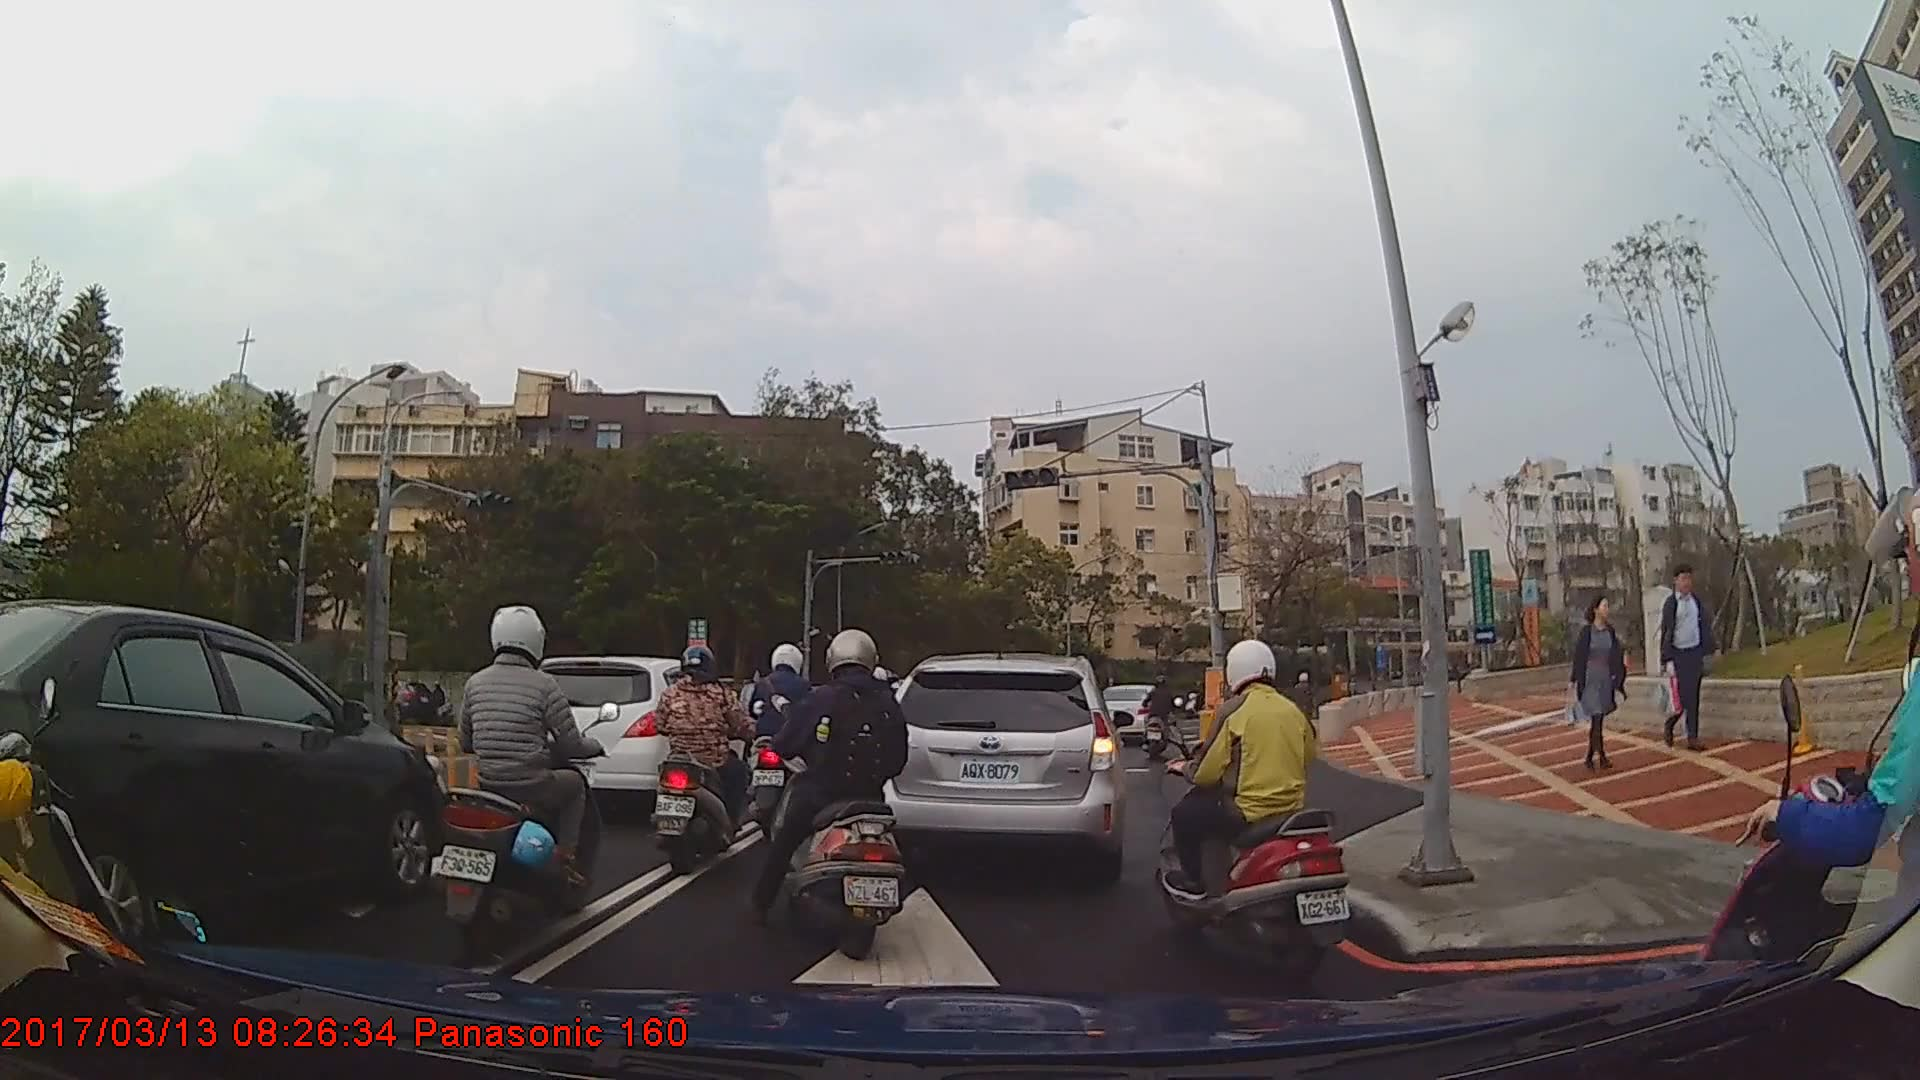pedestrian: (1559, 597, 1628, 773), (1655, 567, 1717, 753)
rider: (1153, 640, 1357, 982), (433, 604, 610, 957), (763, 629, 913, 961), (648, 645, 757, 875), (741, 637, 830, 842), (1139, 673, 1174, 760)
vehicle: (0, 598, 448, 953), (868, 653, 1126, 878), (513, 654, 759, 819), (360, 680, 436, 726)
